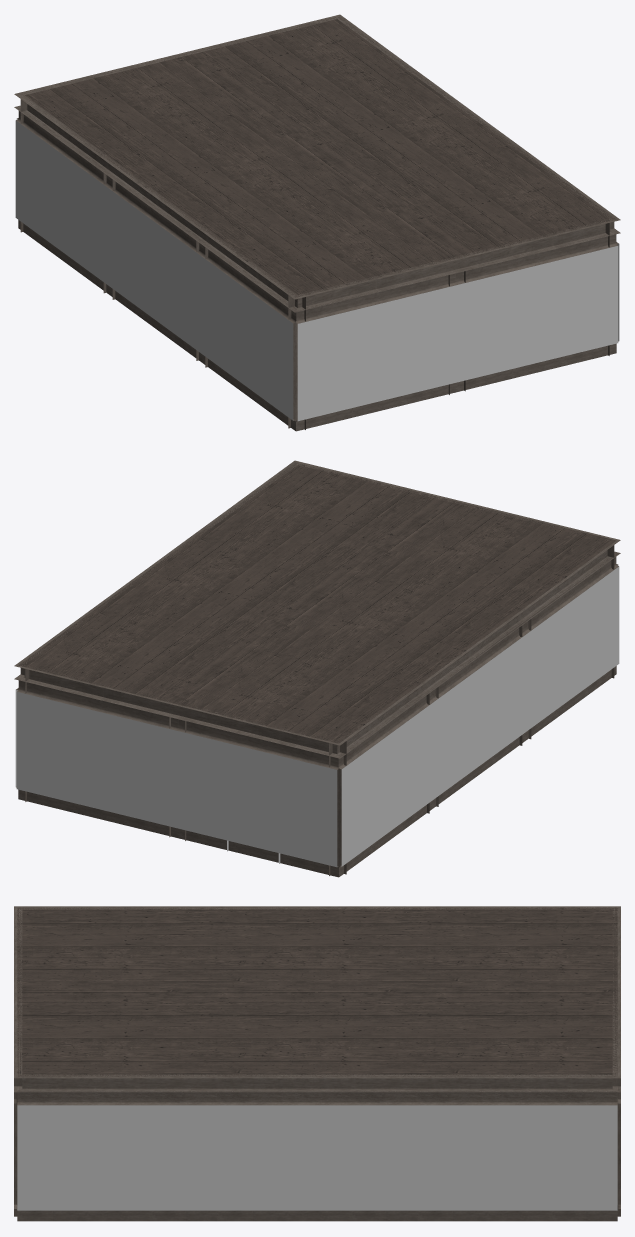
File: house_interior4.fbx
3 renders of one model, top to bottom at view 1: azimuth 30°, elevation 25°; view 2: azimuth 150°, elevation 25°; view 3: azimuth 270°, elevation 25°, orthographic. The views are drawn at different scales.
Visible parts, largest first — view 1: house_interior4; view 2: house_interior4; view 3: house_interior4.
Part boxes in pixels (box(x1,y1,x2,y2)): house_interior4: box(14, 14, 620, 431); house_interior4: box(14, 460, 620, 877); house_interior4: box(14, 906, 620, 1221).
Size of the model in its own units: 1017 by 399 by 1517.
